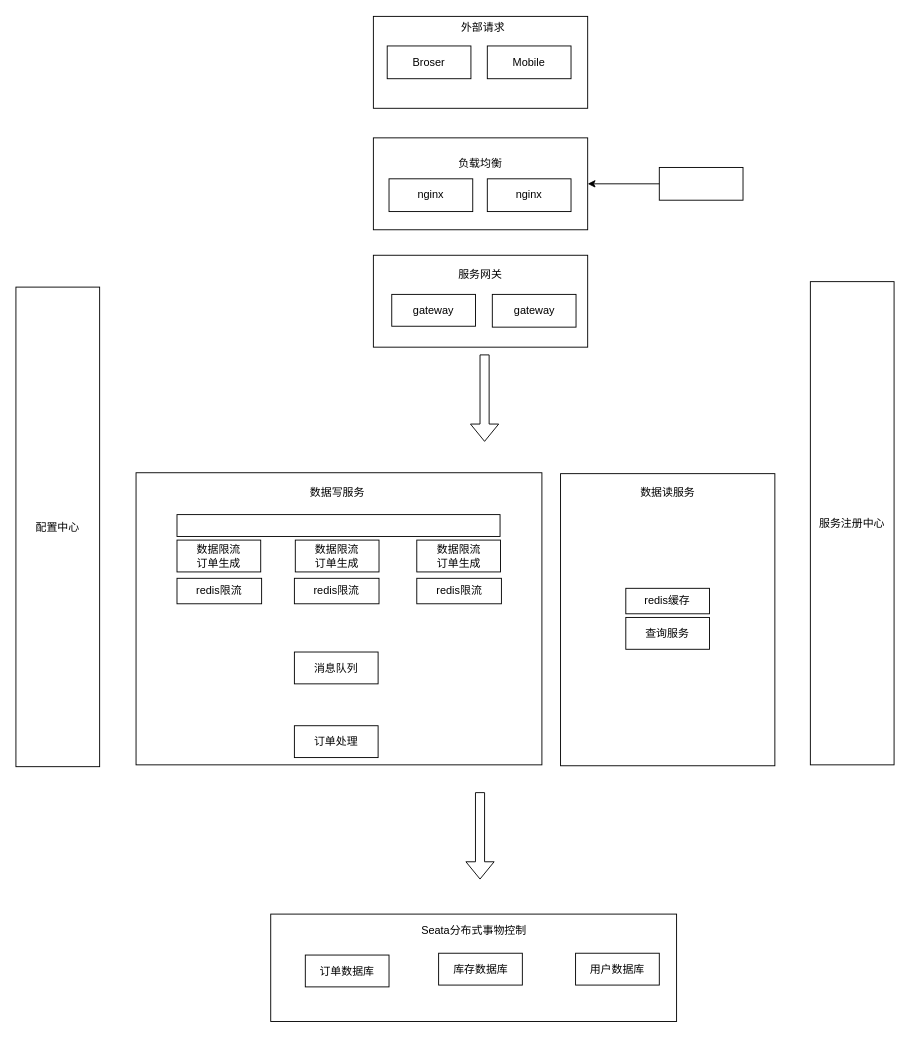
This 910x1037 diagram has some shape labels left out. The centre of each missing label's shape, as x and y in pixels:
redis分布式锁: the point at 338,525
静态资源: the point at 700,183
